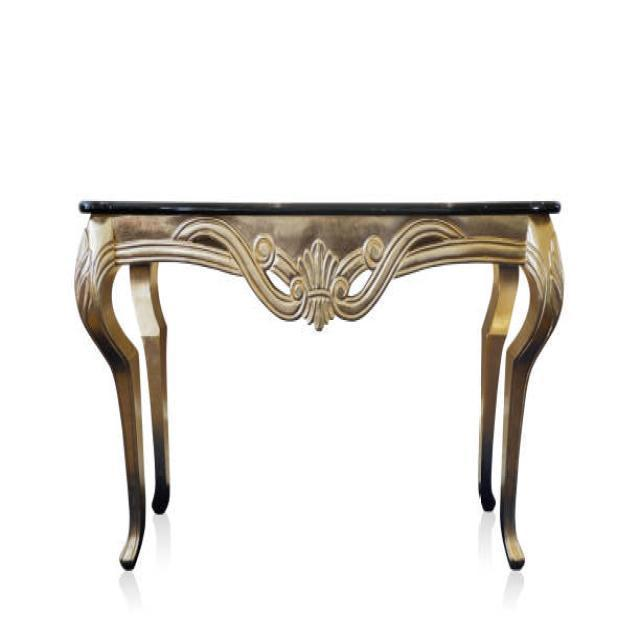table: (73, 198, 565, 572)
